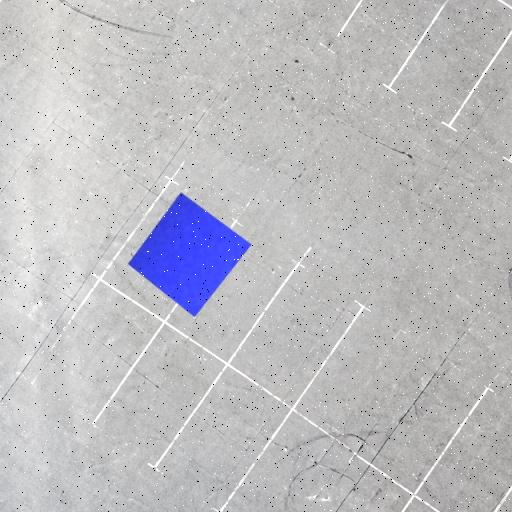BLUE_SQUARE: (127, 191, 252, 318)
